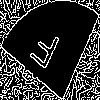F: (25, 25, 62, 79)
